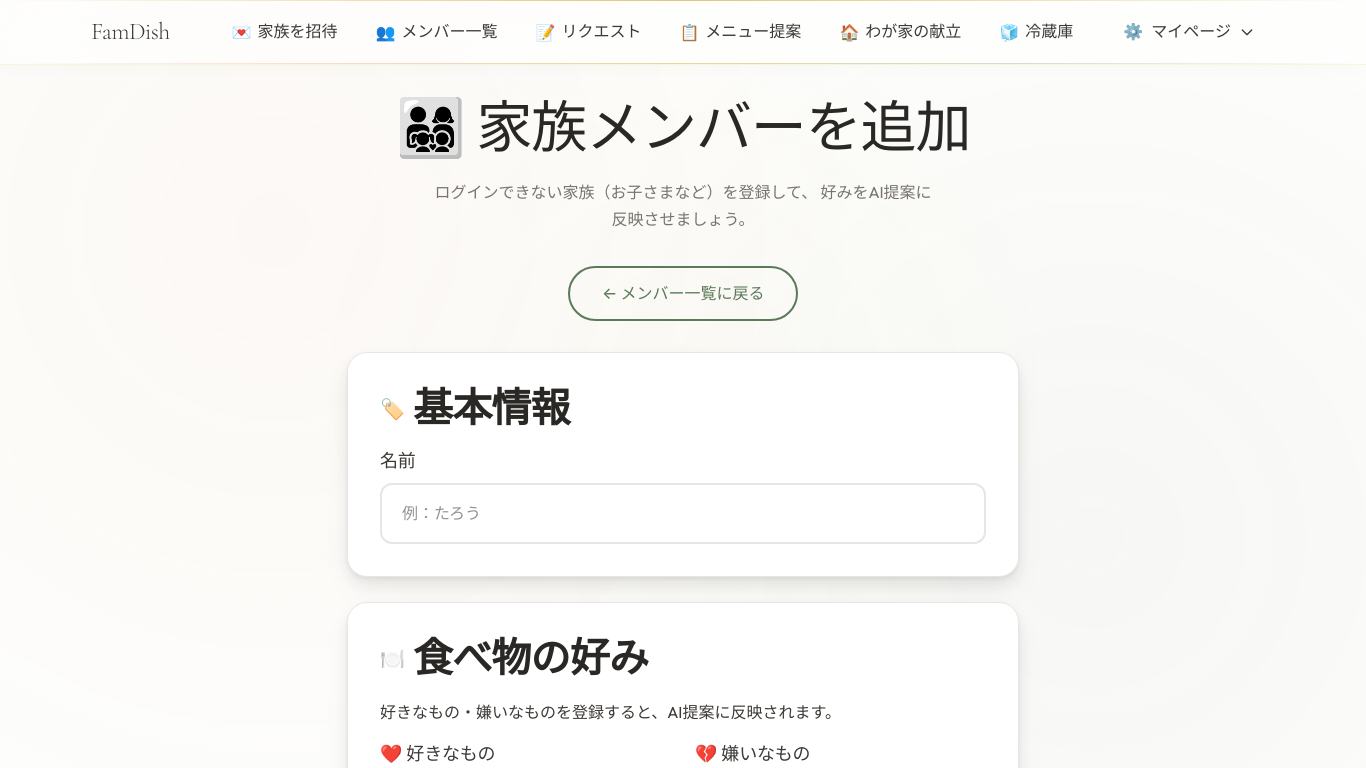
it: InviteMemberPage › ネットワークエラー時にエラーメッセージを表示する
Step 1. Type "たろう" into the field with placeholder "例：たろう" → (683, 514), box [380, 483, 986, 545]
(page scrolled)
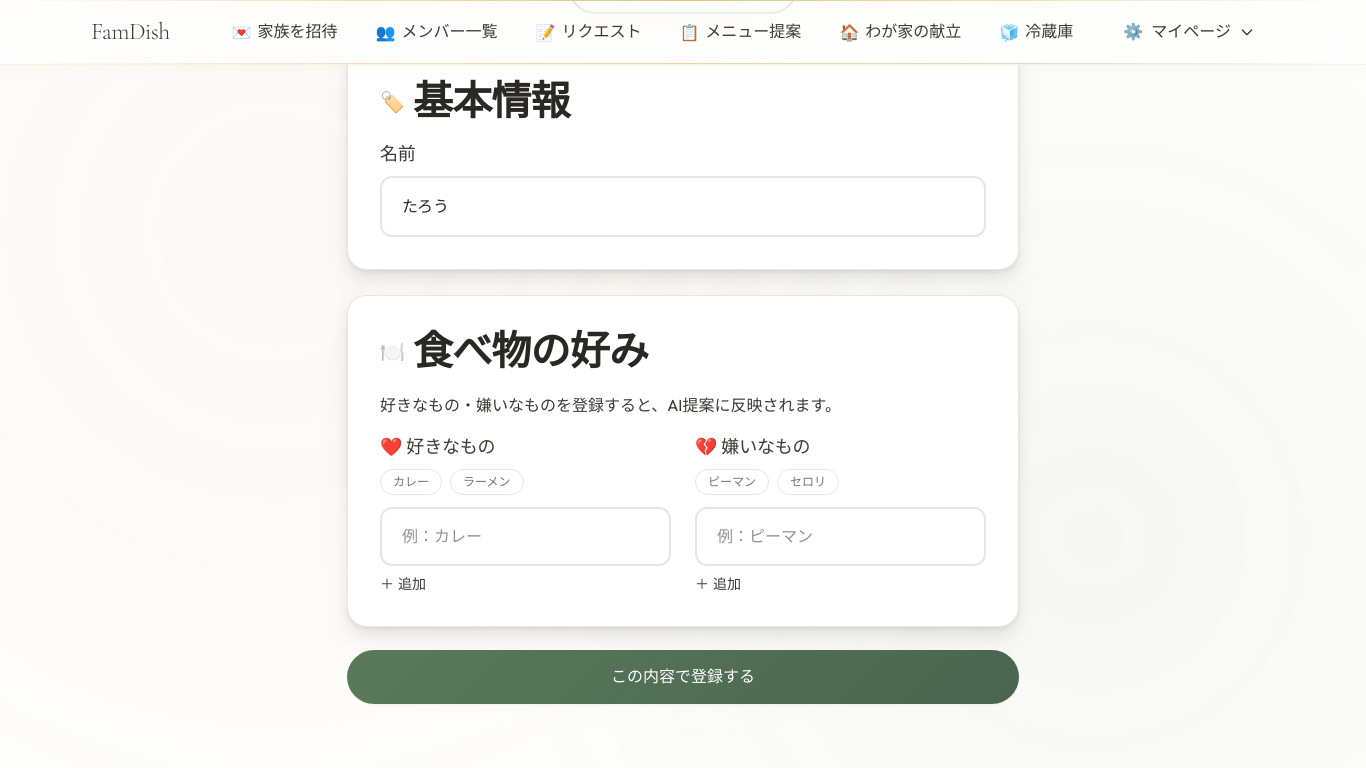
Step 2. Click the button "この内容で登録する" → (683, 677), box [347, 650, 1019, 704]
(page scrolled)
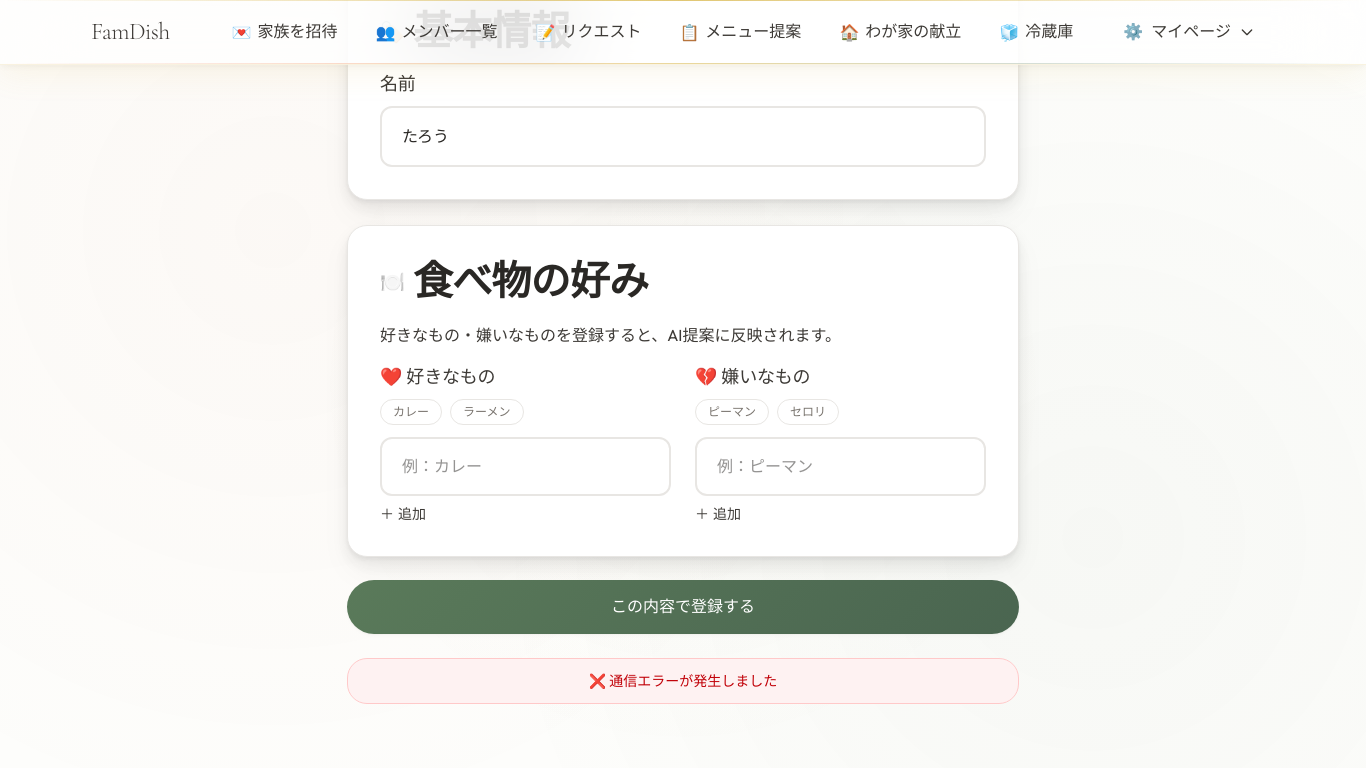
Expected: the text "❌ 通信エラーが発生しました" is shown, [347, 658, 1019, 704]
